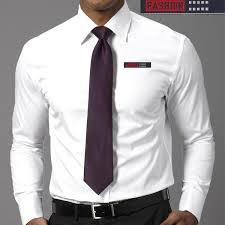F_shirt: (9, 14, 222, 225)
F_tie: (84, 18, 116, 196)
